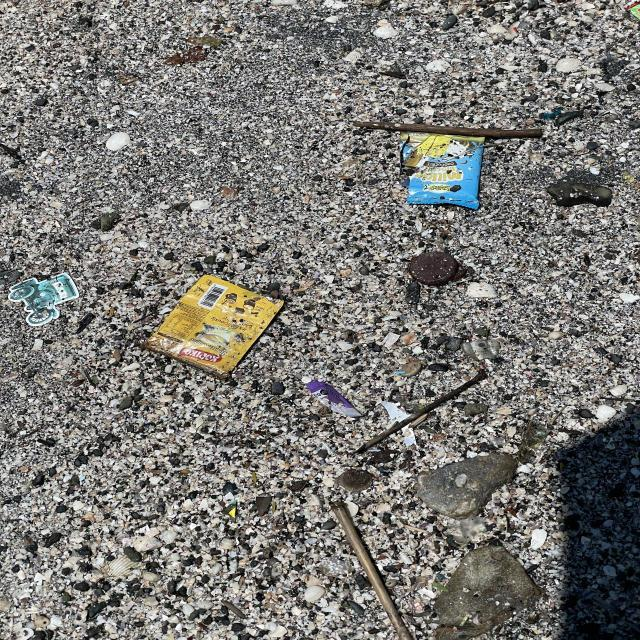plastic_waste: (147, 271, 290, 374), (400, 136, 484, 210), (302, 378, 363, 417)
